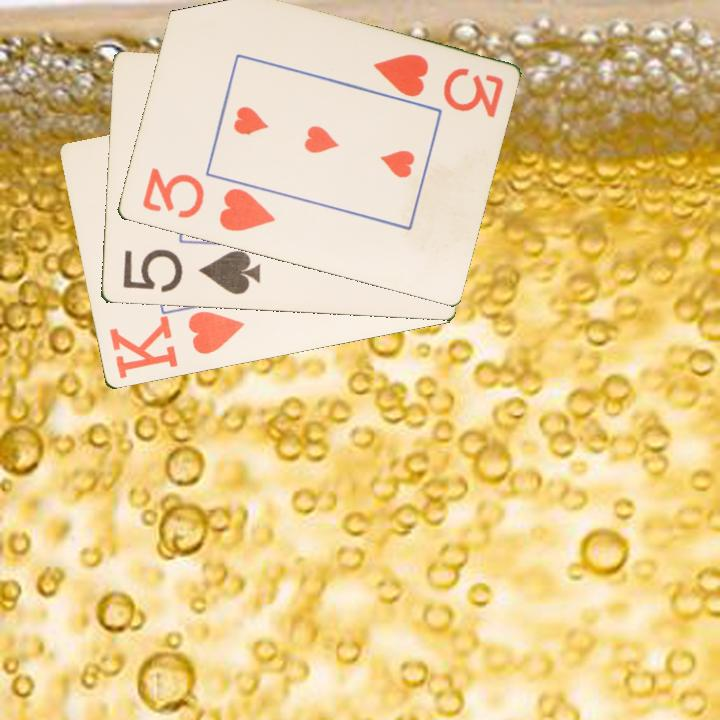3h: (138, 164, 278, 235), (369, 50, 506, 121)
5s: (119, 246, 263, 298)
Kh: (105, 308, 247, 383)
